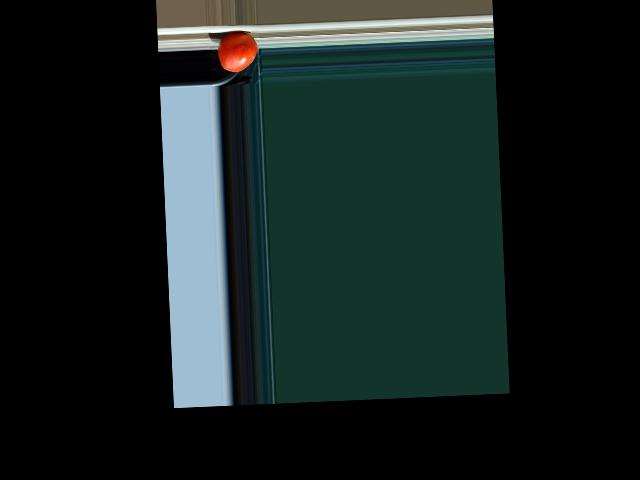tomato: (216, 32, 258, 73)
